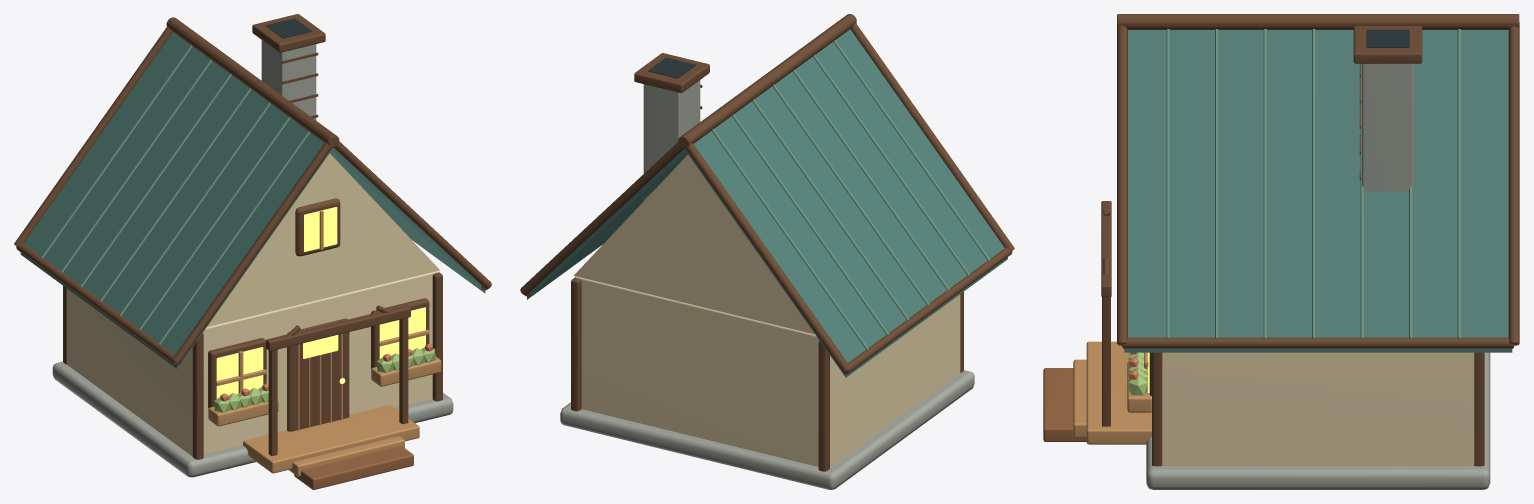
The model's file is forest_cottage.glb.
3 renders of one model, left to right at view 1: azimuth 30°, elevation 25°; view 2: azimuth 150°, elevation 25°; view 3: azimuth 270°, elevation 25°, orthographic. The views are drawn at different scales.
Parts seen in each view (by area): view 1: roof panel, plaster walls, front gable, foundation, porch, door, ridge, chimney, sloped roof trim, lower stair, sloped roof trim.001, roof panel.001 (+26 smaller); view 2: roof panel, plaster walls, front gable, foundation, chimney, ridge, sloped roof trim.001, sloped roof trim, roof panel.001, sloped roof trim.003, eaves, corner timber.001 (+10 smaller); view 3: roof panel.001, plaster walls, foundation, chimney, ridge, eaves.001, porch, sloped roof trim.003, sloped roof trim.002, lower stair, chimney cap, corner timber.003 (+13 smaller).
Boxes of the visible parts, x1=… form: roof panel: x1=20, y1=32, x2=331, y2=368; plaster walls: x1=66, y1=271, x2=439, y2=456; front gable: x1=207, y1=153, x2=439, y2=327; foundation: x1=52, y1=361, x2=453, y2=477; porch: x1=243, y1=405, x2=419, y2=473; door: x1=287, y1=318, x2=349, y2=431; ridge: x1=166, y1=17, x2=339, y2=147; chimney: x1=261, y1=40, x2=316, y2=120; sloped roof trim: x1=172, y1=142, x2=333, y2=364; lower stair: x1=294, y1=446, x2=413, y2=489; sloped roof trim.001: x1=14, y1=26, x2=172, y2=246; roof panel.001: x1=330, y1=147, x2=485, y2=293; roof panel: x1=686, y1=29, x2=1007, y2=377; plaster walls: x1=574, y1=276, x2=960, y2=467; front gable: x1=574, y1=154, x2=814, y2=334; foundation: x1=560, y1=370, x2=974, y2=489; chimney: x1=643, y1=80, x2=700, y2=200; ridge: x1=678, y1=14, x2=856, y2=148; sloped roof trim.001: x1=683, y1=143, x2=850, y2=373; sloped roof trim: x1=850, y1=23, x2=1014, y2=251; roof panel.001: x1=527, y1=148, x2=687, y2=299; sloped roof trim.003: x1=520, y1=142, x2=683, y2=295; eaves: x1=842, y1=248, x2=1012, y2=374; corner timber.001: x1=818, y1=340, x2=829, y2=471; roof panel.001: x1=1124, y1=30, x2=1512, y2=352; plaster walls: x1=1162, y1=352, x2=1474, y2=465; foundation: x1=1146, y1=352, x2=1490, y2=489; chimney: x1=1362, y1=63, x2=1413, y2=191; ridge: x1=1117, y1=14, x2=1519, y2=29; eaves.001: x1=1122, y1=337, x2=1513, y2=348; porch: x1=1086, y1=341, x2=1151, y2=444; sloped roof trim.003: x1=1508, y1=23, x2=1519, y2=345; sloped roof trim.002: x1=1117, y1=26, x2=1127, y2=345; lower stair: x1=1043, y1=368, x2=1086, y2=441; chimney cap: x1=1353, y1=26, x2=1422, y2=63; corner timber.003: x1=1474, y1=352, x2=1484, y2=466.
Size of the model in its own units: 5.16 by 5.16 by 5.4.
